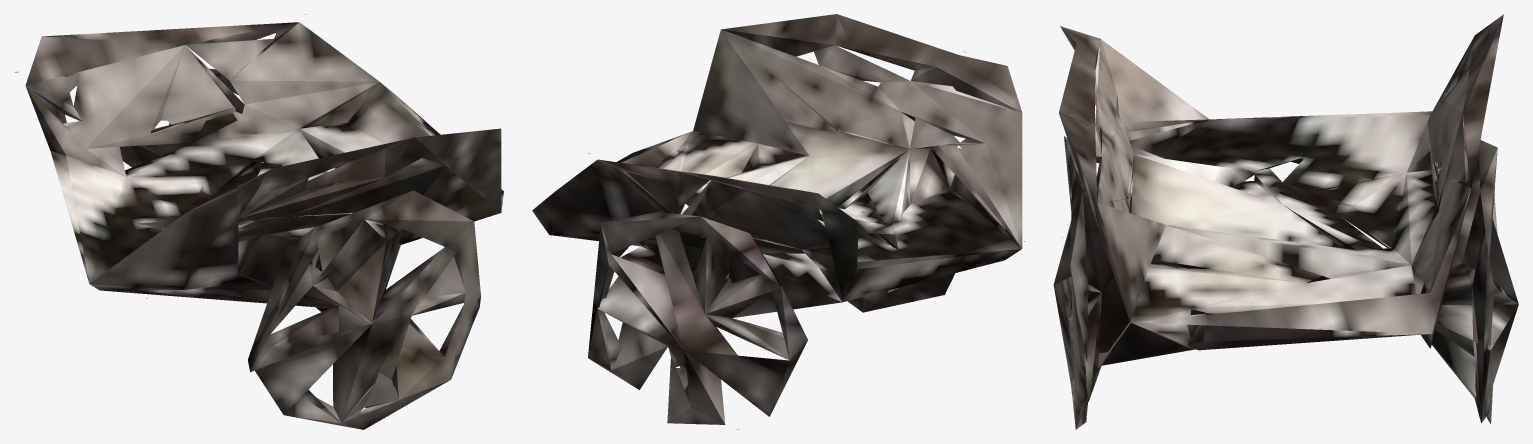
File: ga3_cart_lod2.glb
The picture shows the model from 3 angles, left to right: view 1: azimuth 30°, elevation 25°; view 2: azimuth 150°, elevation 25°; view 3: azimuth 270°, elevation 25°; orthographic projection. The views are drawn at different scales.
Parts seen in each view (by area): view 1: ga3_cart_lod2; view 2: ga3_cart_lod2; view 3: ga3_cart_lod2.
Part boxes in pixels (box(x1,y1,x2,y2)): ga3_cart_lod2: box(15, 14, 503, 429); ga3_cart_lod2: box(532, 14, 1024, 429); ga3_cart_lod2: box(1053, 14, 1518, 429).
Bounding box in the file's own units: 3.09 × 2.1 × 2.67.
Materials: 1 (1 with a texture image).
